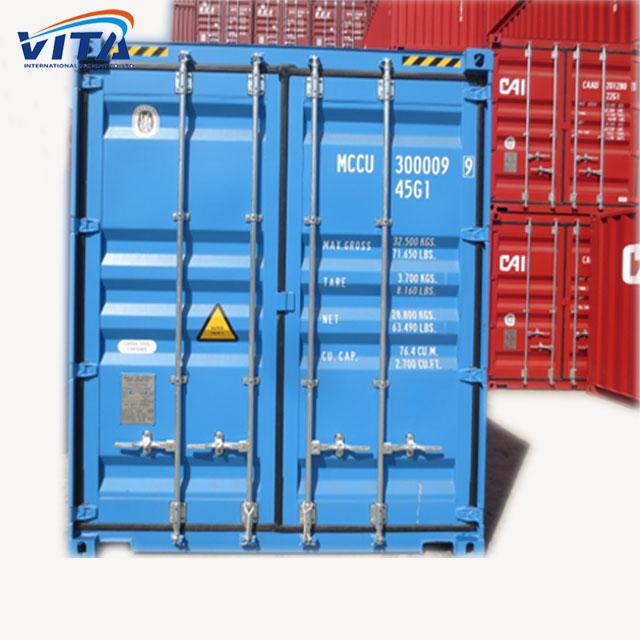ContainerNum: (334, 149, 476, 202)
